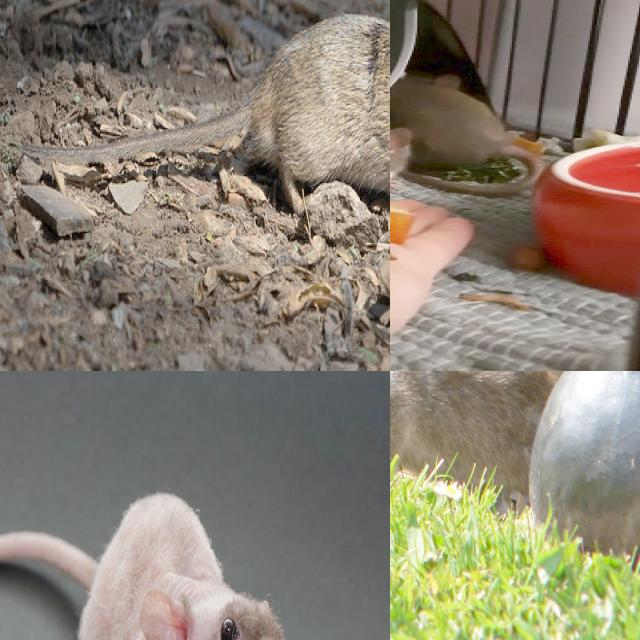rat: (65, 488, 294, 640), (245, 16, 390, 234), (390, 371, 553, 480), (390, 71, 505, 174), (390, 113, 421, 198)
